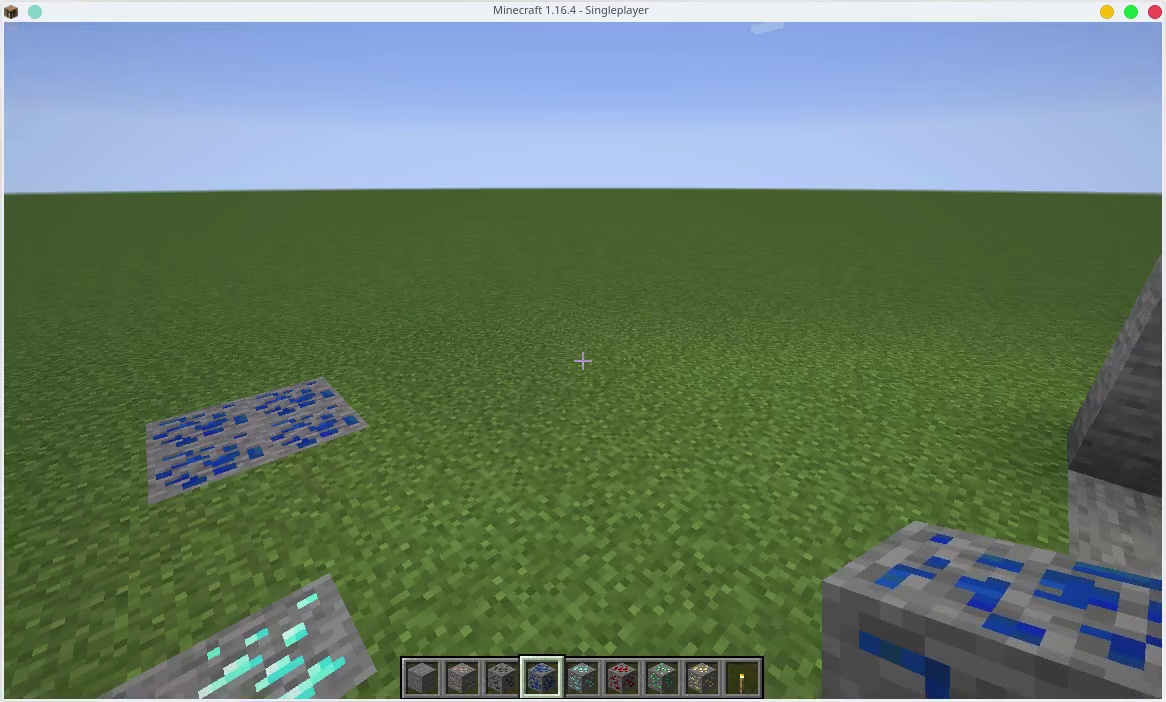gold: (687, 660, 718, 696)
